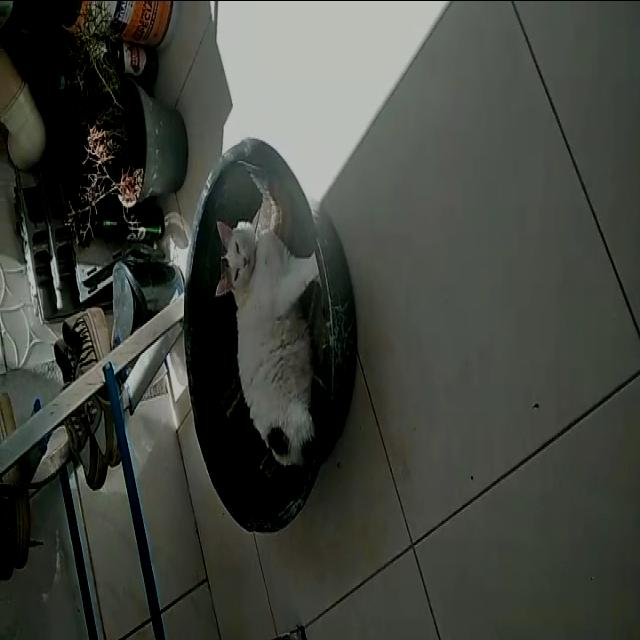Simba: (214, 162, 324, 472)
